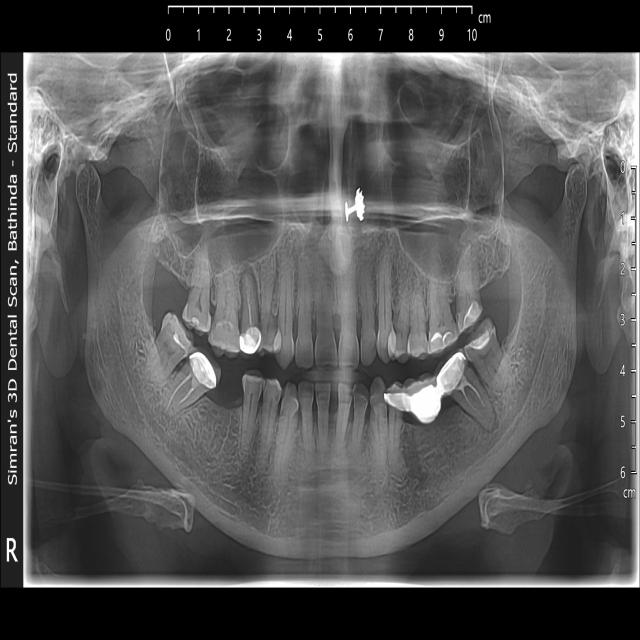Crown: (387, 350, 470, 429), (239, 324, 263, 354)
Filling: (427, 289, 481, 353), (162, 312, 196, 358), (184, 295, 213, 333), (469, 329, 494, 357)
Missing teeth: (411, 409, 468, 468), (213, 390, 240, 441)
Periapical lesion: (239, 266, 262, 329)
Root Canal Treatment: (439, 350, 496, 427), (165, 352, 220, 418), (238, 267, 261, 351)
